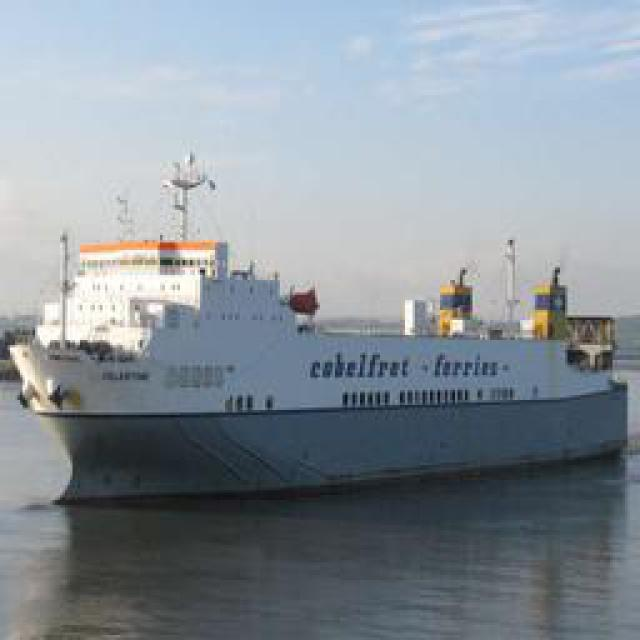Ship: (15, 182, 630, 505)
